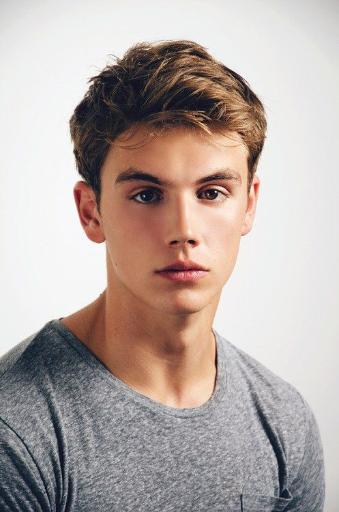left_eye: (196, 187, 231, 204)
left_lip_corner: (202, 267, 213, 279)
right_eye: (126, 186, 166, 207)
right_lip_corner: (151, 266, 164, 282)
